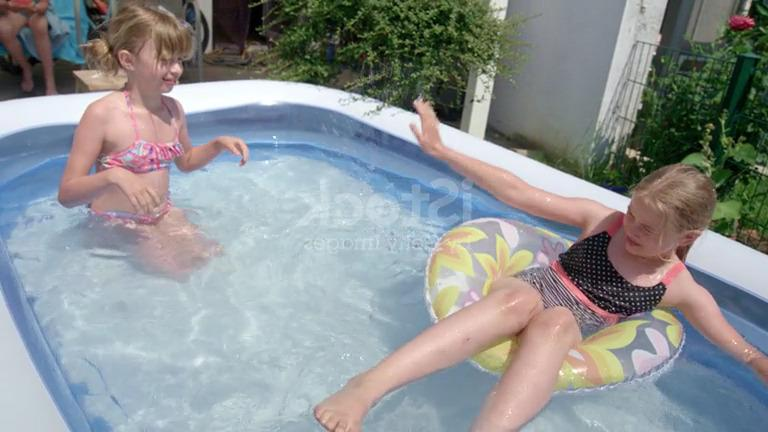Swimming: (338, 104, 759, 432)
